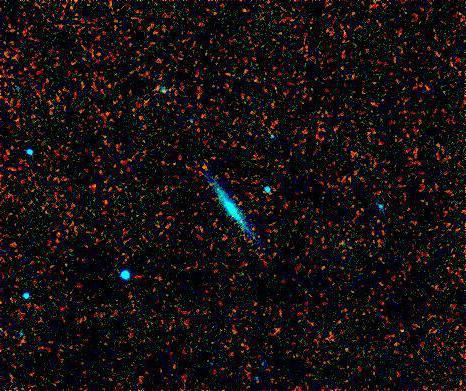star: (197, 151, 227, 181)
